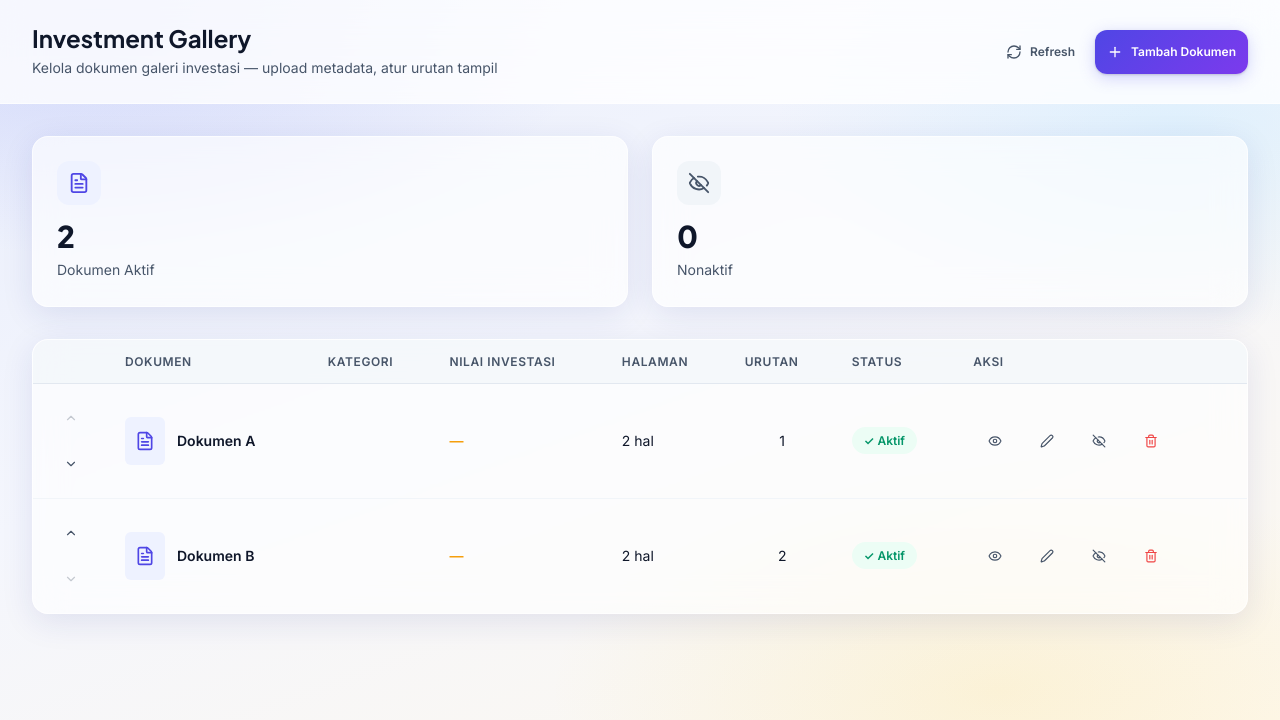
Test: Admin gallery: mutasi dicek (tidak ada sukses palsu) › ubah status › berhasil (baris terbukti) -> status berubah + toast sukses
Expected: the text "Dokumen A" is shown, [177,432,255,449]
Click the 1st button titled "Nonaktifkan" at (1099, 441), box [1077,419,1121,463]
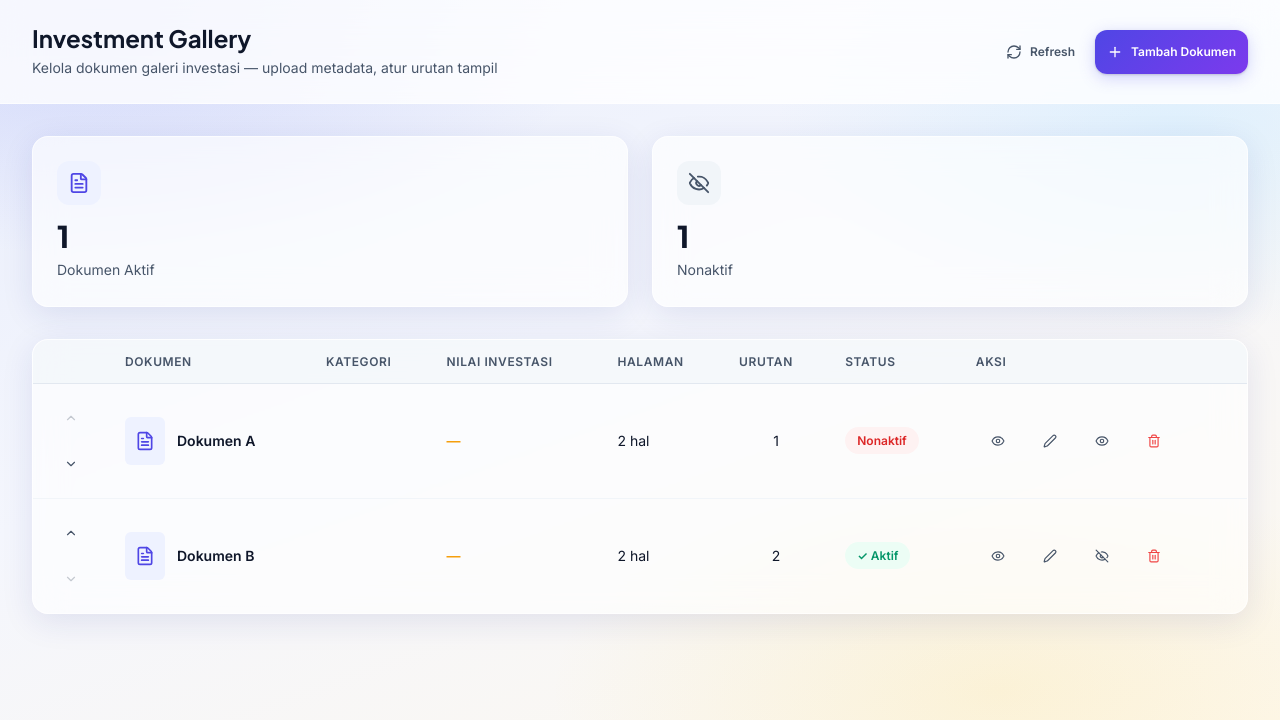
Expected: the text "Nonaktif" below "Halaman" is shown, [857,433,907,448]
